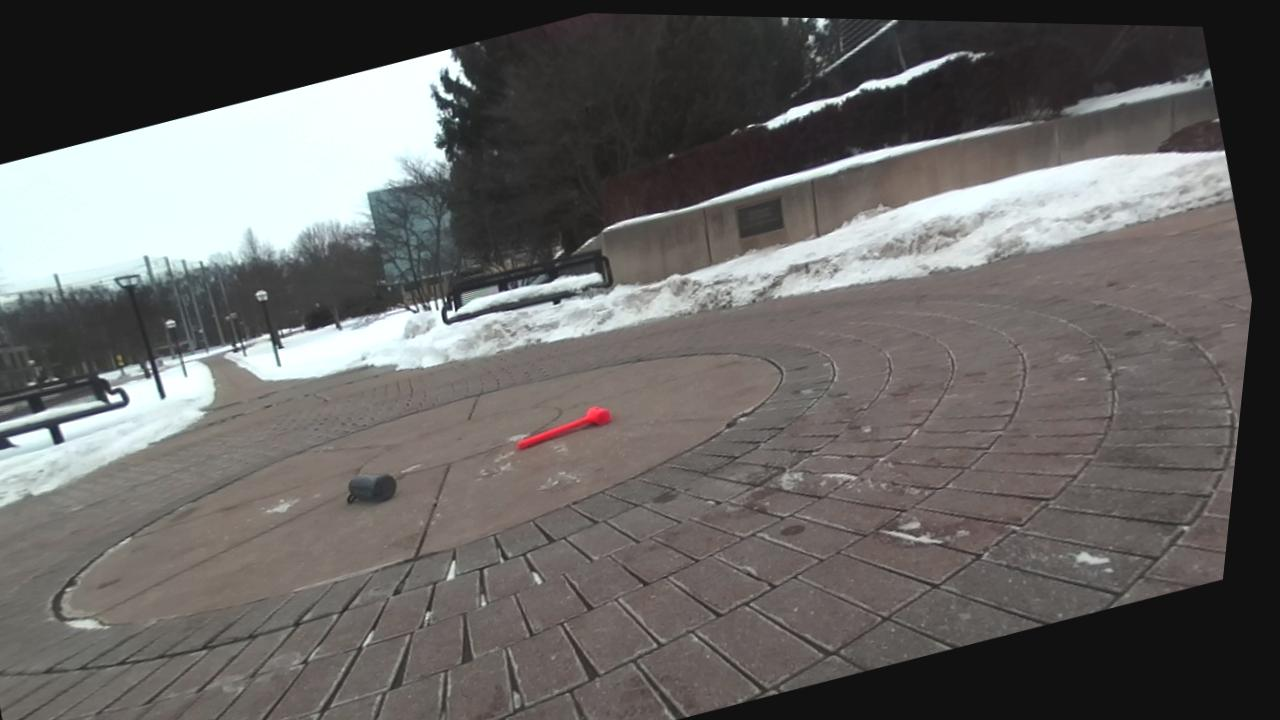bottle: (347, 474, 396, 503)
mallet: (519, 406, 613, 449)
